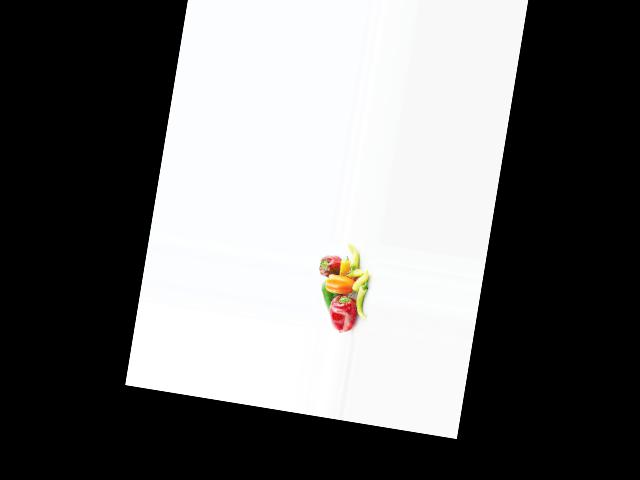bell_pepper: (353, 278, 371, 321)
